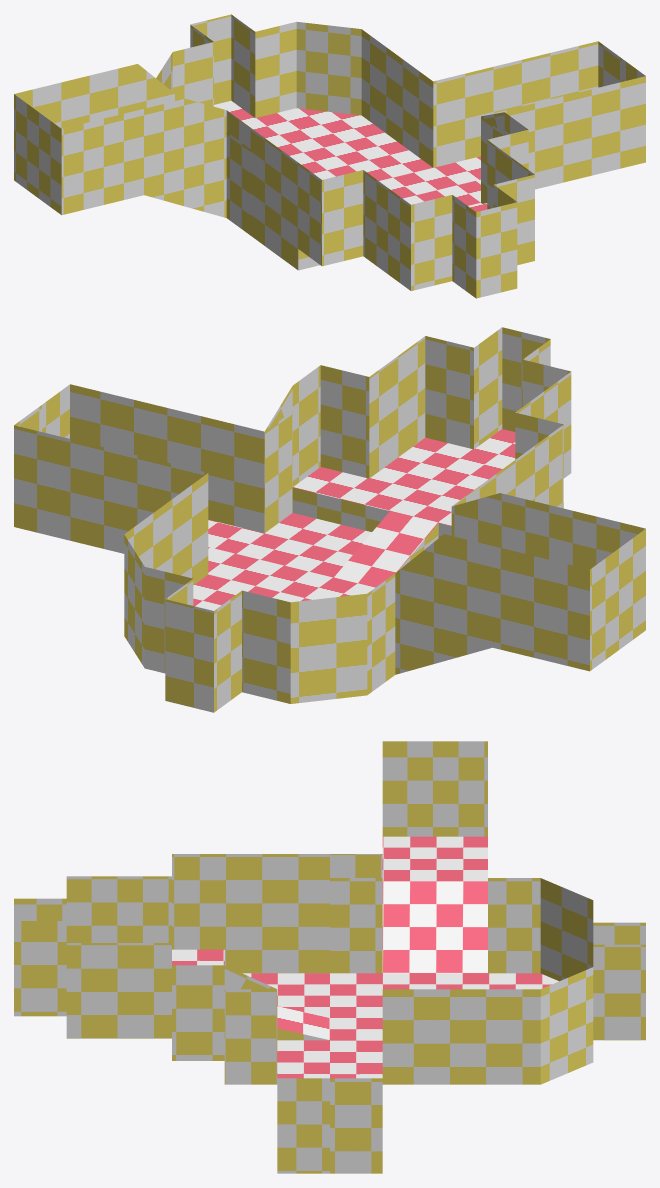
The model's file is Beta-Hub.glb.
3 renders of one model, top to bottom at view 1: azimuth 30°, elevation 25°; view 2: azimuth 150°, elevation 25°; view 3: azimuth 270°, elevation 25°, orthographic. The views are drawn at different scales.
Visible parts, largest first — view 1: Circle; view 2: Circle; view 3: Circle.
Boxes of the visible parts, <box> form: Circle: <box>14,14,645,298</box>; Circle: <box>14,327,645,712</box>; Circle: <box>14,741,645,1173</box>.
Bounding box in the file's own units: 52 × 12 × 48.
Materials: 2 (2 with a texture image).
